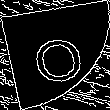O_N: (25, 26, 85, 84)
